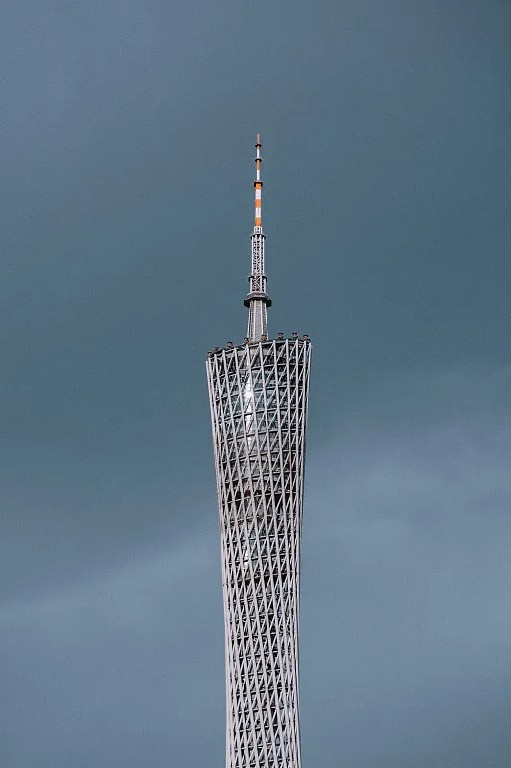Canton: (199, 127, 312, 768)
